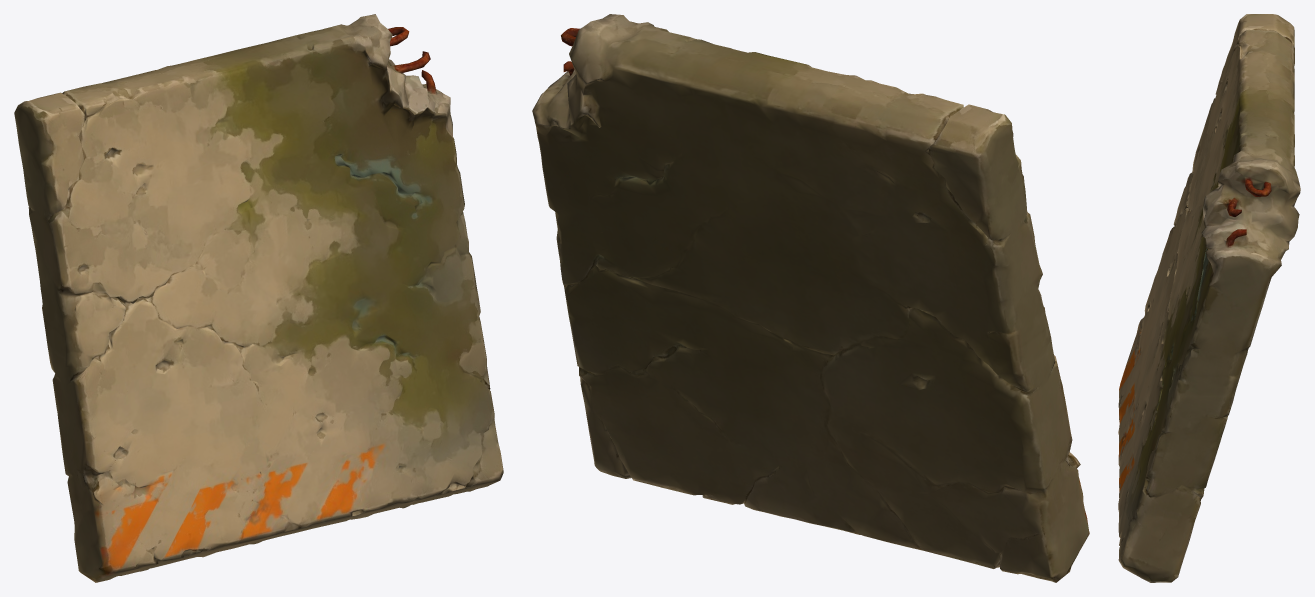
Rendered from tripo_convert_d1bf6f7e-4eeb-462c-90b0-b673c6a1e1aa.glb.
The picture shows the model from 3 angles, left to right: view 1: azimuth 30°, elevation 25°; view 2: azimuth 150°, elevation 25°; view 3: azimuth 270°, elevation 25°; orthographic projection. The views are drawn at different scales.
Visible parts, largest first — view 1: tripo_node_d1bf6f7e-4eeb-462c-90b0-b673c6a1e1aa; view 2: tripo_node_d1bf6f7e-4eeb-462c-90b0-b673c6a1e1aa; view 3: tripo_node_d1bf6f7e-4eeb-462c-90b0-b673c6a1e1aa.
Boxes of the visible parts, x1=… form: tripo_node_d1bf6f7e-4eeb-462c-90b0-b673c6a1e1aa: x1=14, y1=14, x2=503, y2=582; tripo_node_d1bf6f7e-4eeb-462c-90b0-b673c6a1e1aa: x1=532, y1=14, x2=1089, y2=582; tripo_node_d1bf6f7e-4eeb-462c-90b0-b673c6a1e1aa: x1=1118, y1=14, x2=1300, y2=582.
Size of the model in its own units: 0.9631 by 1 by 0.4141.
1 material, 1 textured.
